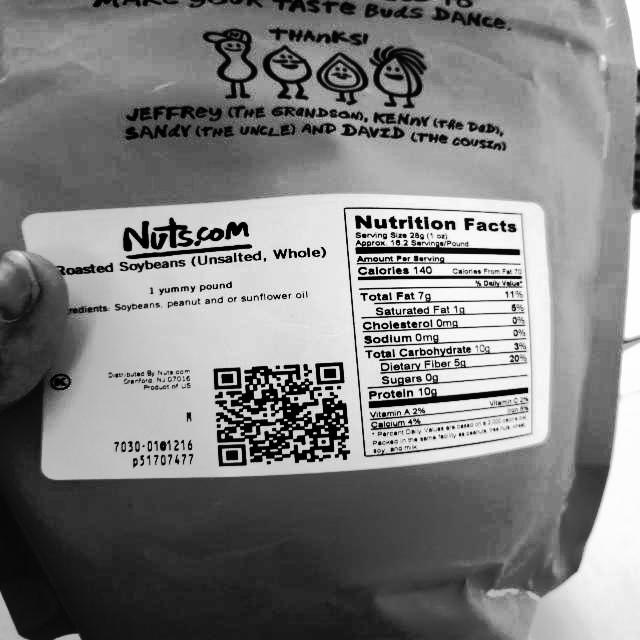qr_code: (199, 352, 362, 471)
